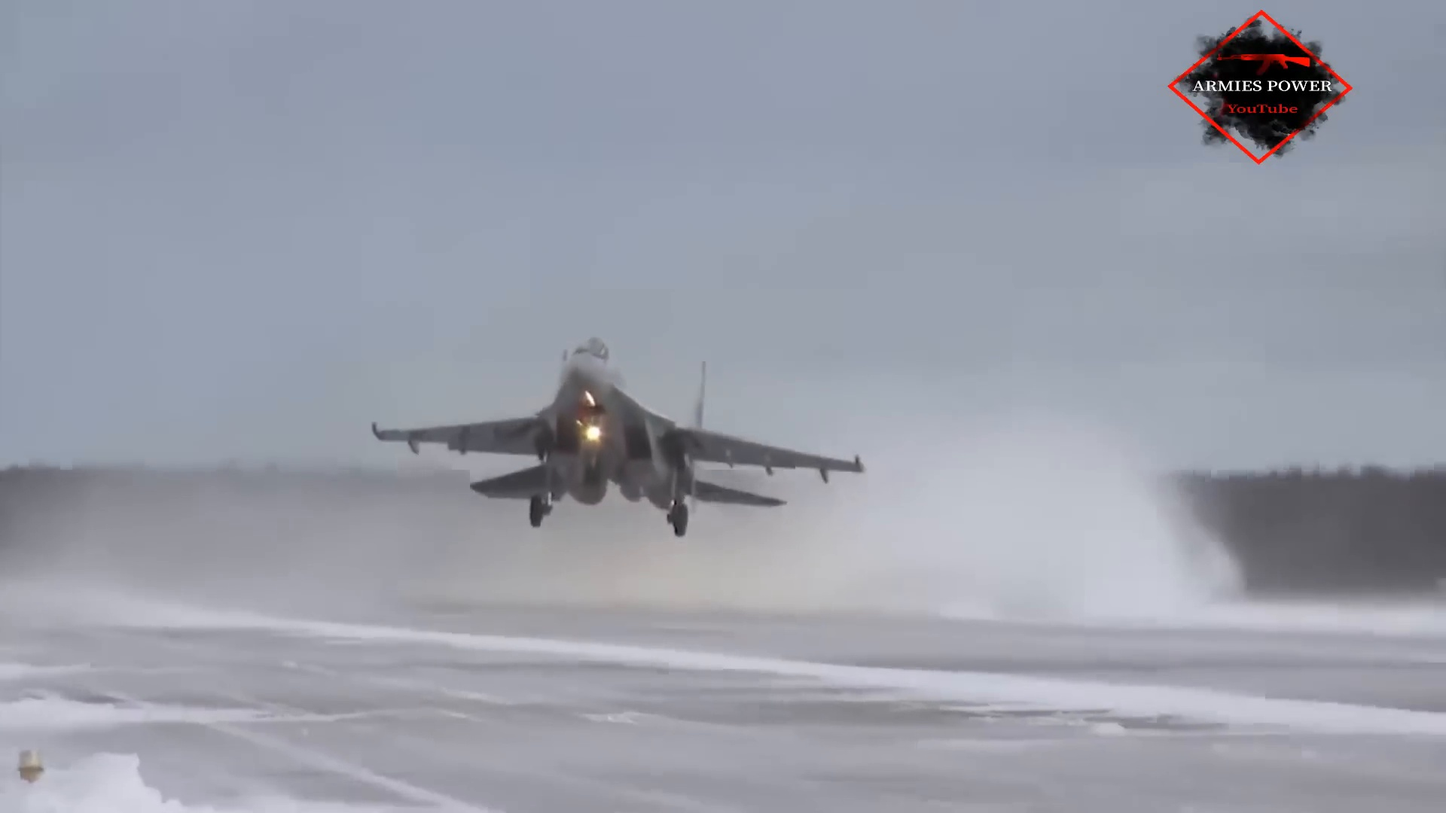Su35: (369, 339, 865, 535)
